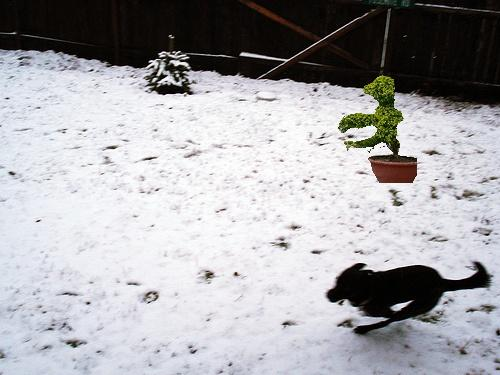tampered: (339, 76, 417, 183)
